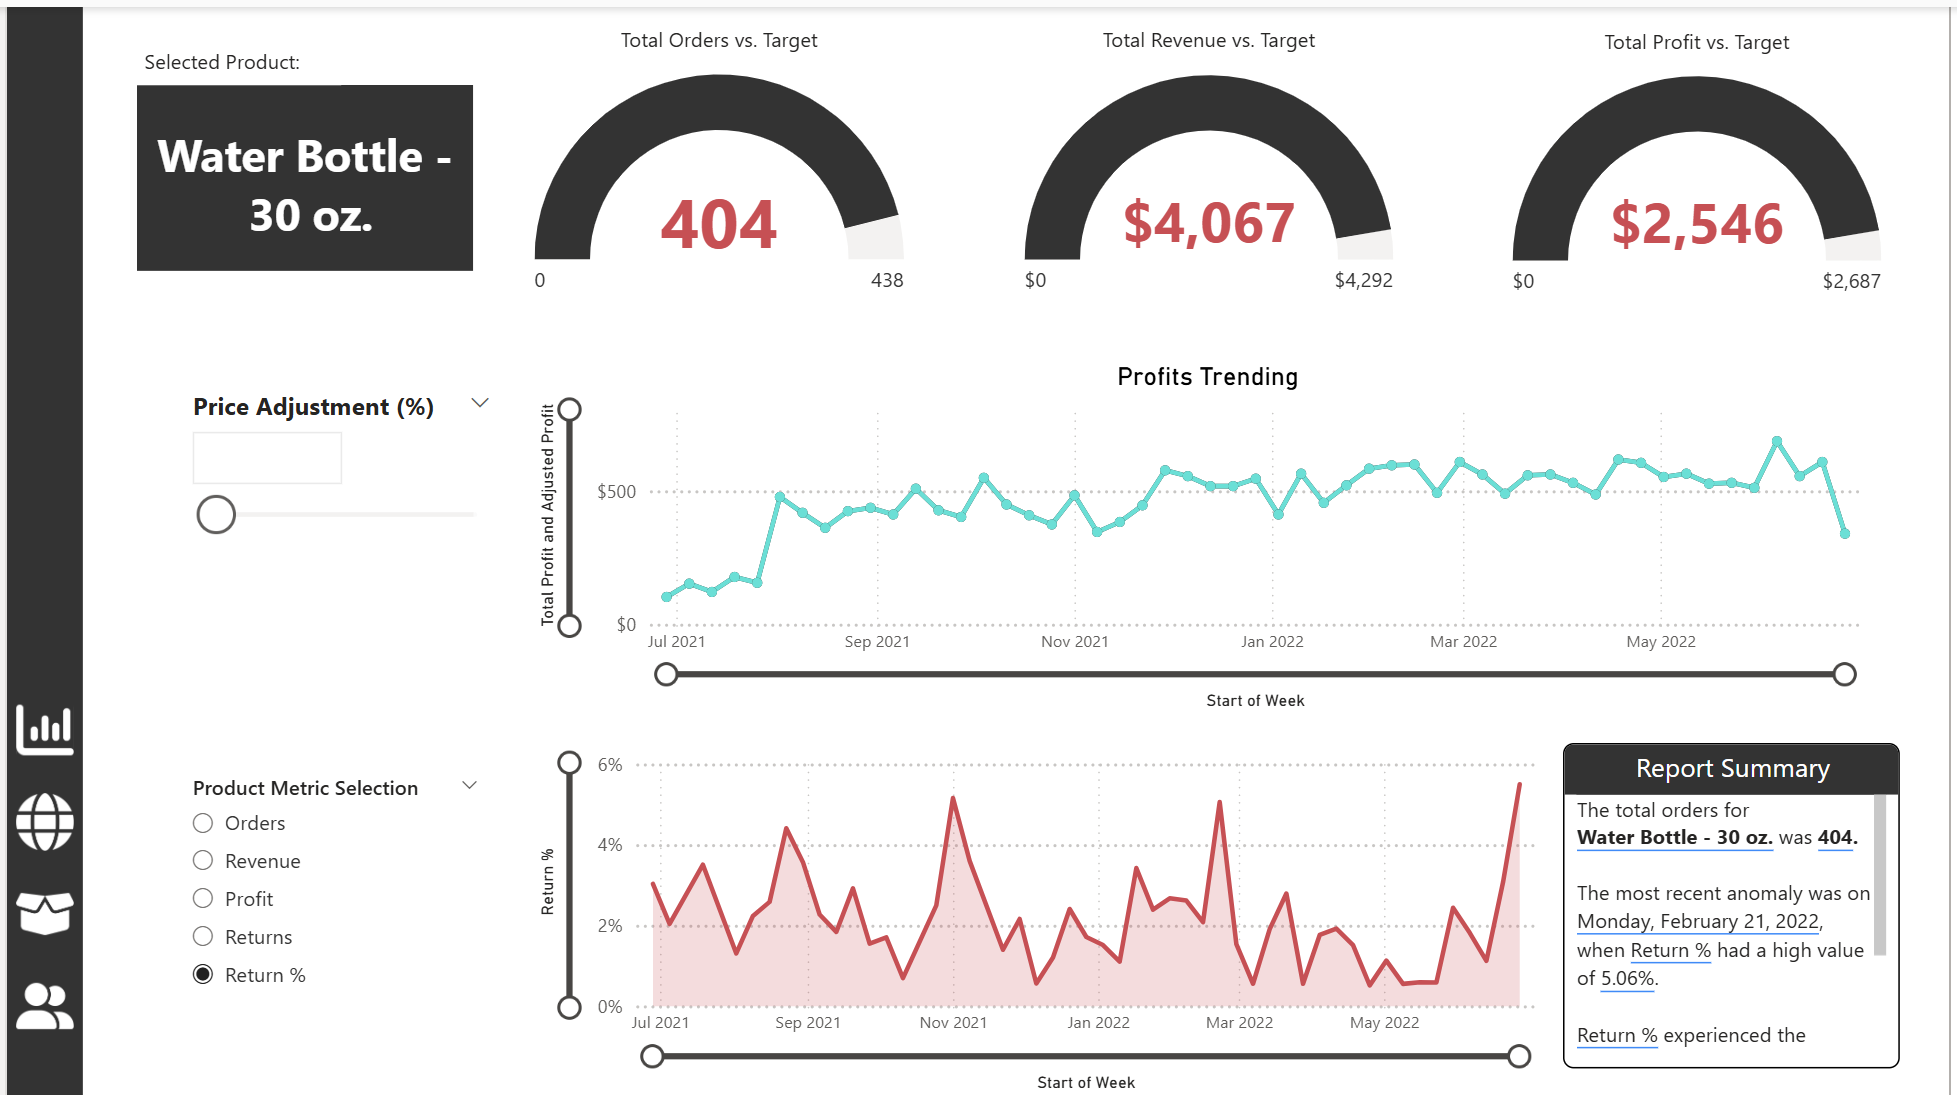

Layout of this report page (visuals, bound fields, positions):
{"tool":"powerbi","page":{"name":"Product Details","canvas":[1280,720],"ordinal":2},"visuals":[{"type":"shape","box":[0,0,50,720],"z":0},{"type":"actionButton","box":[0,453.5,50.1,46.1],"z":0,"group":"g1"},{"type":"gauge","title":"Total Orders vs. Target","fields":{"Y":["Measure Table.Total Orders"],"MaxValue":["Measure Table.Order Target"]},"box":[343.3,11.5,253.4,197],"z":1000},{"type":"actionButton","box":[0,514.1,50.1,46.1],"z":1000,"group":"g1"},{"type":"gauge","title":"Total Revenue vs. Target","fields":{"Y":["Measure Table.Total Revenue"],"MaxValue":["Measure Table.Revenue Target"]},"box":[665.5,11.2,253.1,197.7],"z":2000},{"type":"actionButton","box":[0,574.8,50.1,46.1],"z":2000,"group":"g1"},{"type":"gauge","title":"Total Profit vs. Target","fields":{"MaxValue":["Measure Table.Profit Target"],"Y":["Measure Table.Total Profit"]},"box":[987.4,13.2,253.1,196.4],"z":3000},{"type":"actionButton","box":[0,635.4,50.1,46.1],"z":3000,"group":"g1"},{"type":"lineChart","title":"Profits Trending","fields":{"Category":["Calendar Lookup.Date Hierarchy.Start of Year","Calendar Lookup.Date Hierarchy.Start of Month","Calendar Lookup.Date Hierarchy.Start of Week","Calendar Lookup.Date Hierarchy.Date"],"Y":["Measure Table.Total Profit","Measure Table.Adjusted Profit"]},"box":[342.7,233.3,897.7,234.6],"z":4000},{"type":"areaChart","title":"Returns Trending","fields":{"Y":["Measure Table.Return Rate"],"Category":["Calendar Lookup.Date Hierarchy.Start of Year","Calendar Lookup.Date Hierarchy.Start of Month","Calendar Lookup.Date Hierarchy.Start of Week","Calendar Lookup.Date Hierarchy.Date"]},"box":[342.2,485.6,683.3,234.4],"z":5000},{"type":"card","fields":{"Values":["Min(Product Lookup.ProductName)"]},"box":[85.7,51.4,221.5,122.6],"z":6000},{"type":"textbox","box":[85.7,21.1,134.5,30.3],"z":7000},{"type":"group","id":"g1","title":"Navigation Buttons","box":[0,453.5,50.1,228.1],"z":8000},{"type":"slicer","fields":{"Values":["Price Adjustment (%).Price Adjustment (%)"]},"box":[109.4,246.5,221.5,162.1],"z":9000},{"type":"slicer","fields":{"Values":["Parameter.Parameter"]},"box":[109.4,499.6,213.6,174],"z":10000},{"type":"textbox","title":"Report Summary","box":[1025.6,485.6,222.2,214.4],"z":11000}]}

Visuals, with their boxes on the page's 1280x720 design canvas (x1, y1, x2, y2). These are canvas units, not pixel positions in the 1957x1095 screenshot, which may show the page scaled, cropped or inside an application window:
shape: left=0, top=0, right=50, bottom=720
actionButton: left=0, top=454, right=50, bottom=500
"Total Orders vs. Target" gauge: left=343, top=12, right=597, bottom=208
actionButton: left=0, top=514, right=50, bottom=560
"Total Revenue vs. Target" gauge: left=666, top=11, right=919, bottom=209
actionButton: left=0, top=575, right=50, bottom=621
"Total Profit vs. Target" gauge: left=987, top=13, right=1240, bottom=210
actionButton: left=0, top=635, right=50, bottom=682
"Profits Trending" lineChart: left=343, top=233, right=1240, bottom=468
"Returns Trending" areaChart: left=342, top=486, right=1026, bottom=720
card - Min(Product Lookup.ProductName): left=86, top=51, right=307, bottom=174
textbox: left=86, top=21, right=220, bottom=51
"Navigation Buttons" group: left=0, top=454, right=50, bottom=682
slicer - Price Adjustment (%).Price Adjustment (%): left=109, top=246, right=331, bottom=409
slicer - Parameter.Parameter: left=109, top=500, right=323, bottom=674
"Report Summary" textbox: left=1026, top=486, right=1248, bottom=700
